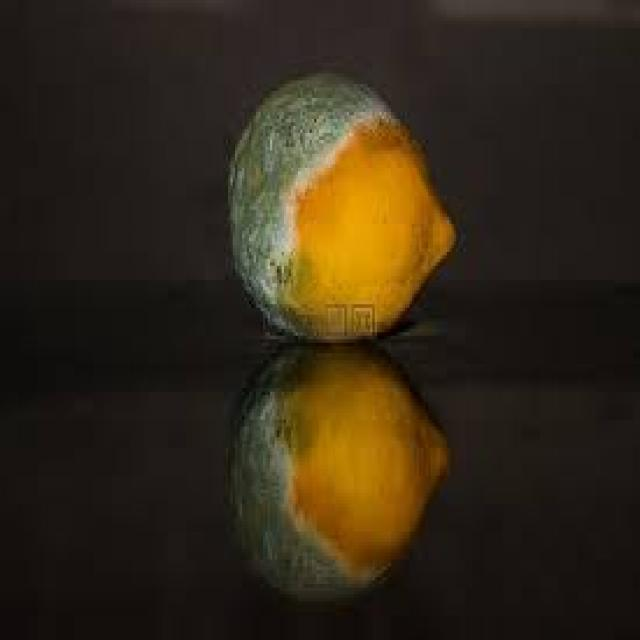organic waste: (226, 66, 451, 336), (224, 336, 449, 594)
